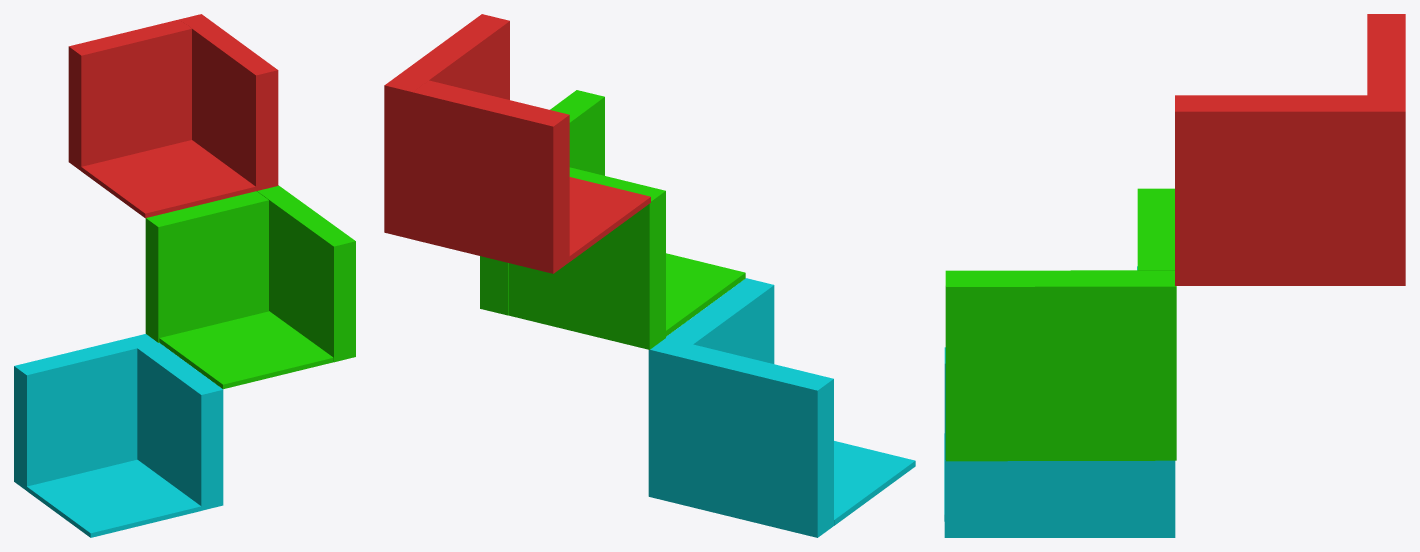
Rendered from rainbowtest.glb.
The picture shows the model from 3 angles, left to right: view 1: azimuth 30°, elevation 25°; view 2: azimuth 150°, elevation 25°; view 3: azimuth 270°, elevation 25°; orthographic projection. The views are drawn at different scales.
Visible parts, largest first — view 1: Cube.006, Cube.005, Cube.002; view 2: Cube.002, Cube.006, Cube.005; view 3: Cube.005, Cube.006, Cube.002.
Part boxes in pixels (box(x1,y1,x2,y2)): Cube.006: box(68, 14, 278, 218); Cube.005: box(145, 185, 355, 389); Cube.002: box(14, 334, 223, 537); Cube.002: box(648, 278, 915, 537); Cube.006: box(384, 14, 650, 273); Cube.005: box(480, 90, 745, 349); Cube.005: box(945, 188, 1176, 461); Cube.006: box(1175, 14, 1405, 285); Cube.002: box(944, 266, 1175, 537).
Size of the model in its own units: 12.01 by 15 by 12.
